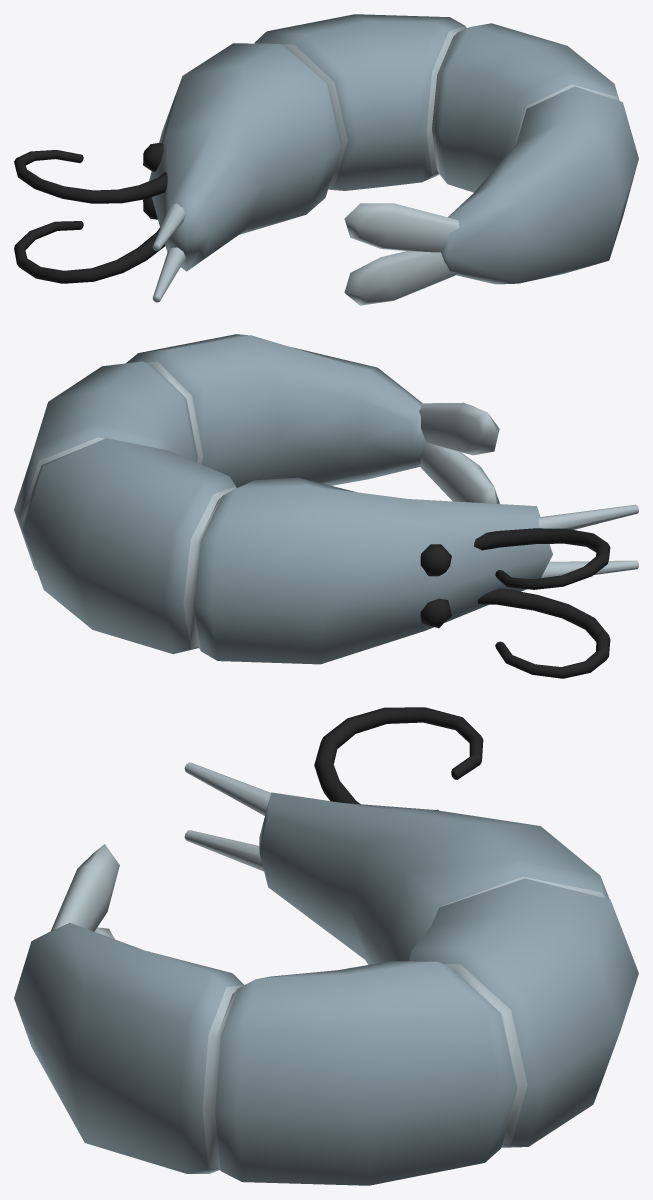
File: Shrimp_2.fbx
3 views of the same model, one above another, from view 1: azimuth 30°, elevation 25°; view 2: azimuth 150°, elevation 25°; view 3: azimuth 270°, elevation 25° (orthographic). The views are drawn at different scales.
Parts seen in each view (by area): view 1: Shrimp_2; view 2: Shrimp_2; view 3: Shrimp_2.
Part boxes in pixels (x1,y1,x2,y2): Shrimp_2: [14, 14, 638, 305]; Shrimp_2: [14, 334, 638, 678]; Shrimp_2: [14, 707, 638, 1185].
Size of the model in its own units: 14.22 by 3.95 by 10.79.
